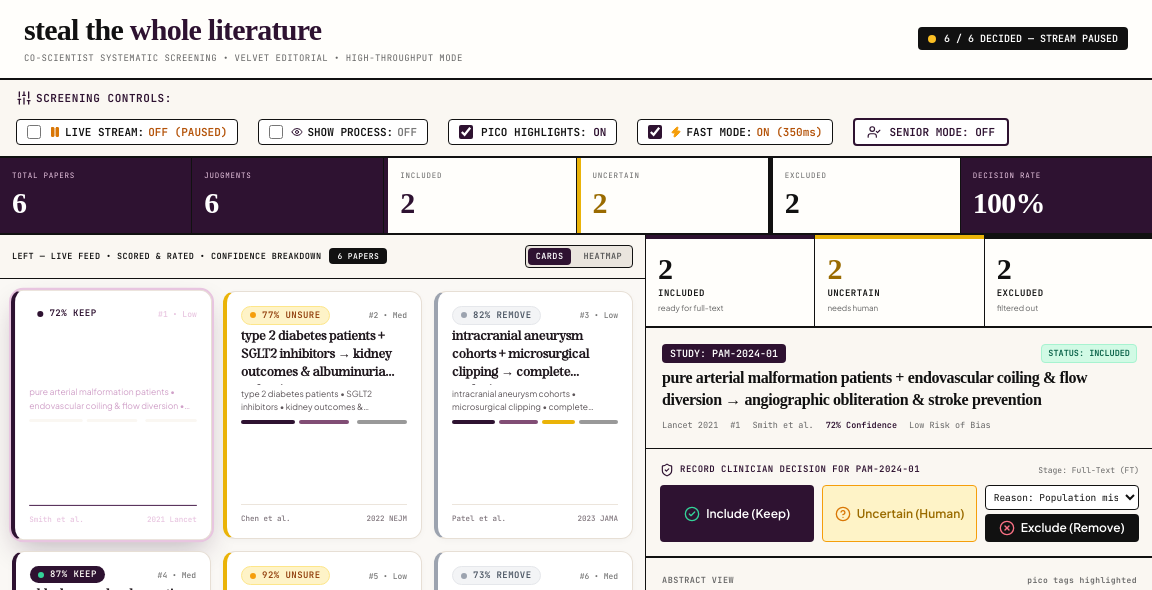
Test: ExploratoryScreeningView › activates Senior Mode on one click and reveals transparent Co-Scientist process trace
// Click Senior Mode
Click the button "SENIOR MODE: OFF" at (931, 132), box [853,118,1009,146]
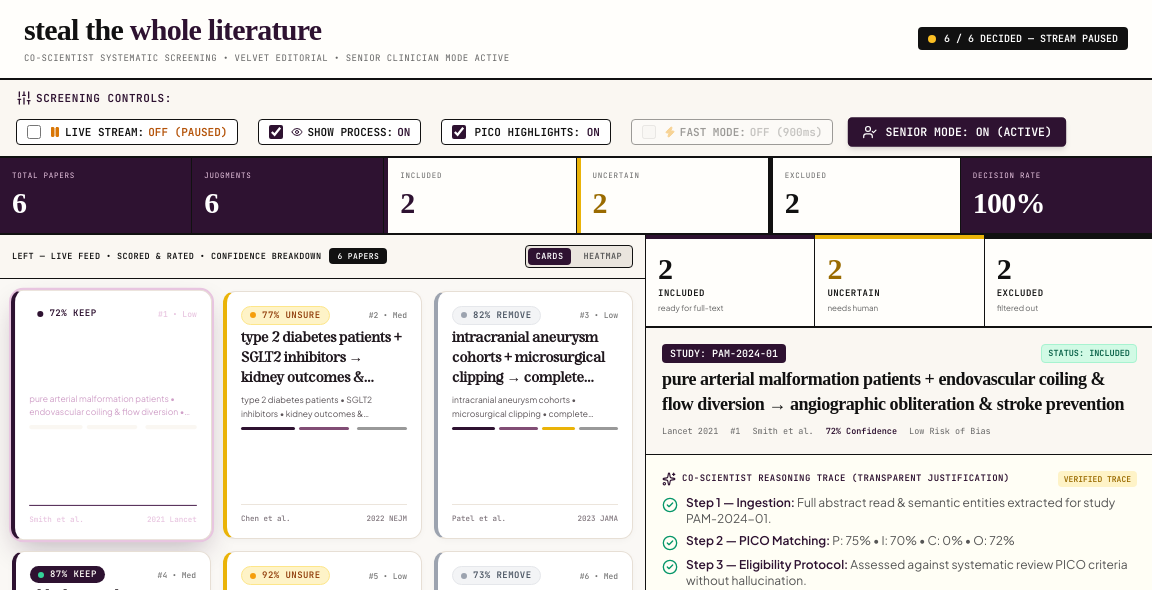
Now the text "Co-Scientist Reasoning Trace (Transparent Justification)" is shown, box [662,472,1010,486]
Now the text "Step 1 — Ingestion:" is shown, box [686,494,795,510]
